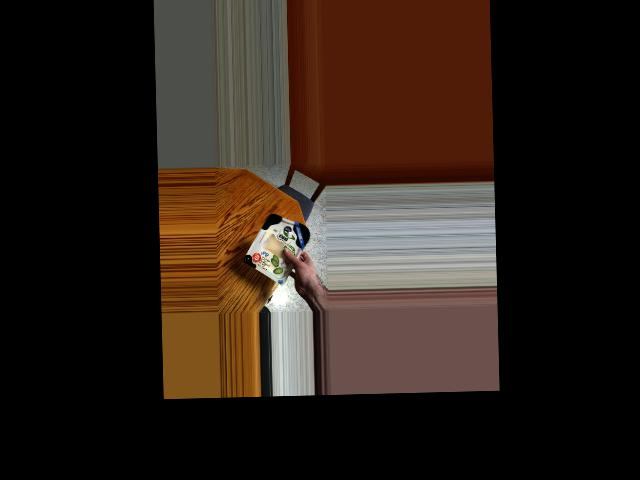cheese: (247, 207, 311, 276)
